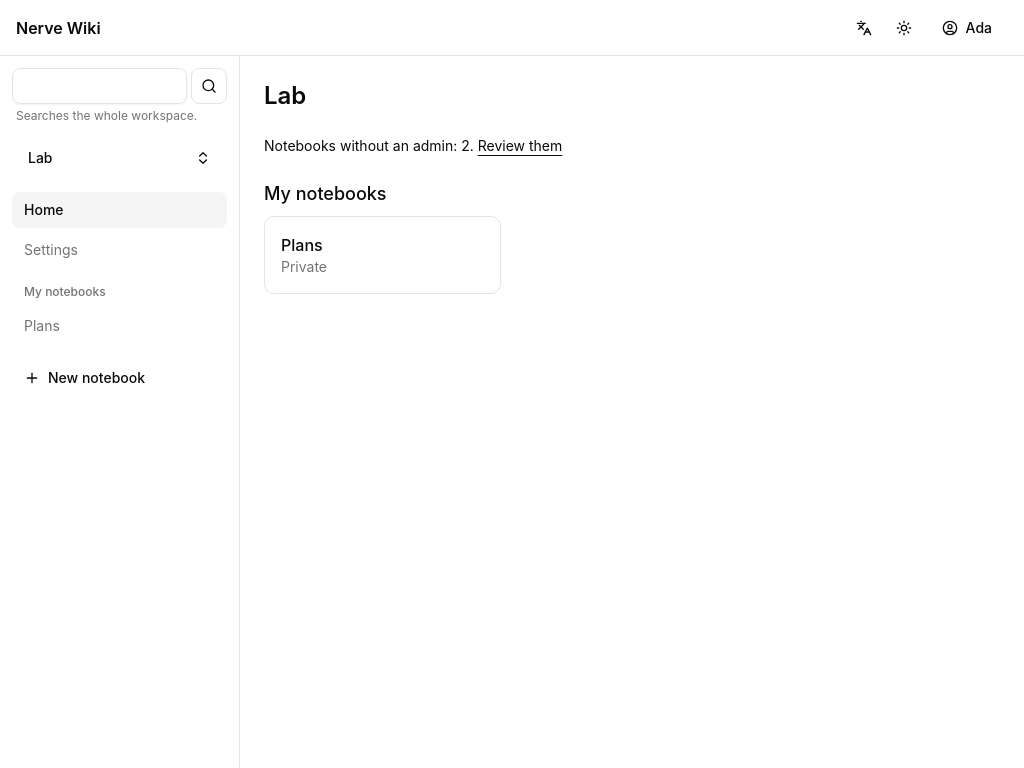
Test case: an admin with ownerless notebooks reads how many, with a way to them
Expected: the text "Notebooks without an admin: 2. Review them" is shown, x1=264 y1=137 x2=562 y2=154
Click the link "Review them": (520, 146) x1=478 y1=137 x2=562 y2=154
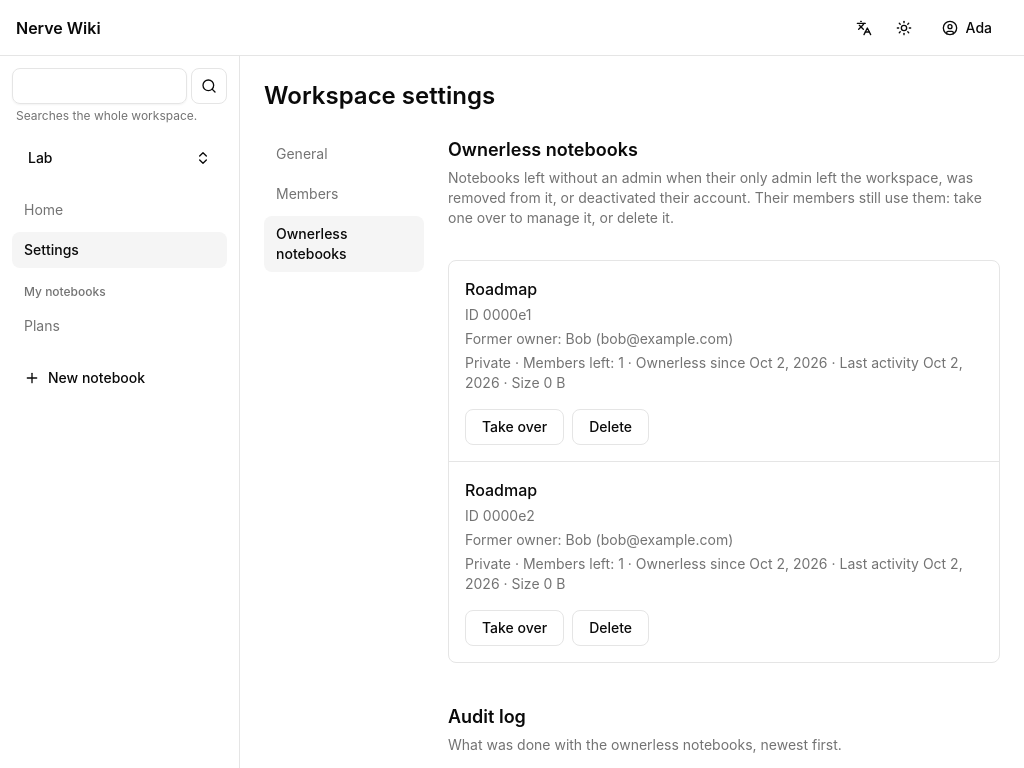
Result: the heading "Ownerless notebooks" is shown at x1=448 y1=139 x2=638 y2=160
